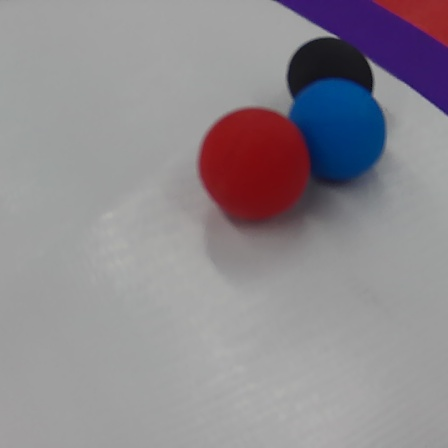black: (286, 34, 377, 113)
blue: (286, 77, 388, 187)
red: (198, 106, 312, 232)
